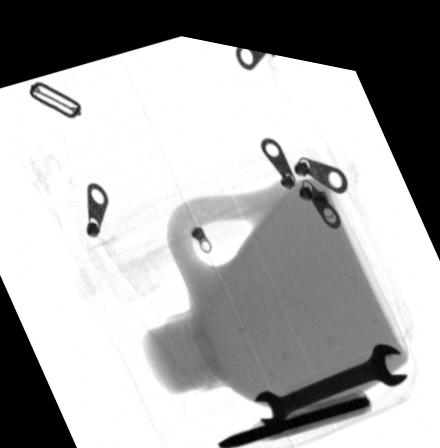Pliers: (216, 376, 369, 438)
Wrench: (253, 324, 408, 414)
